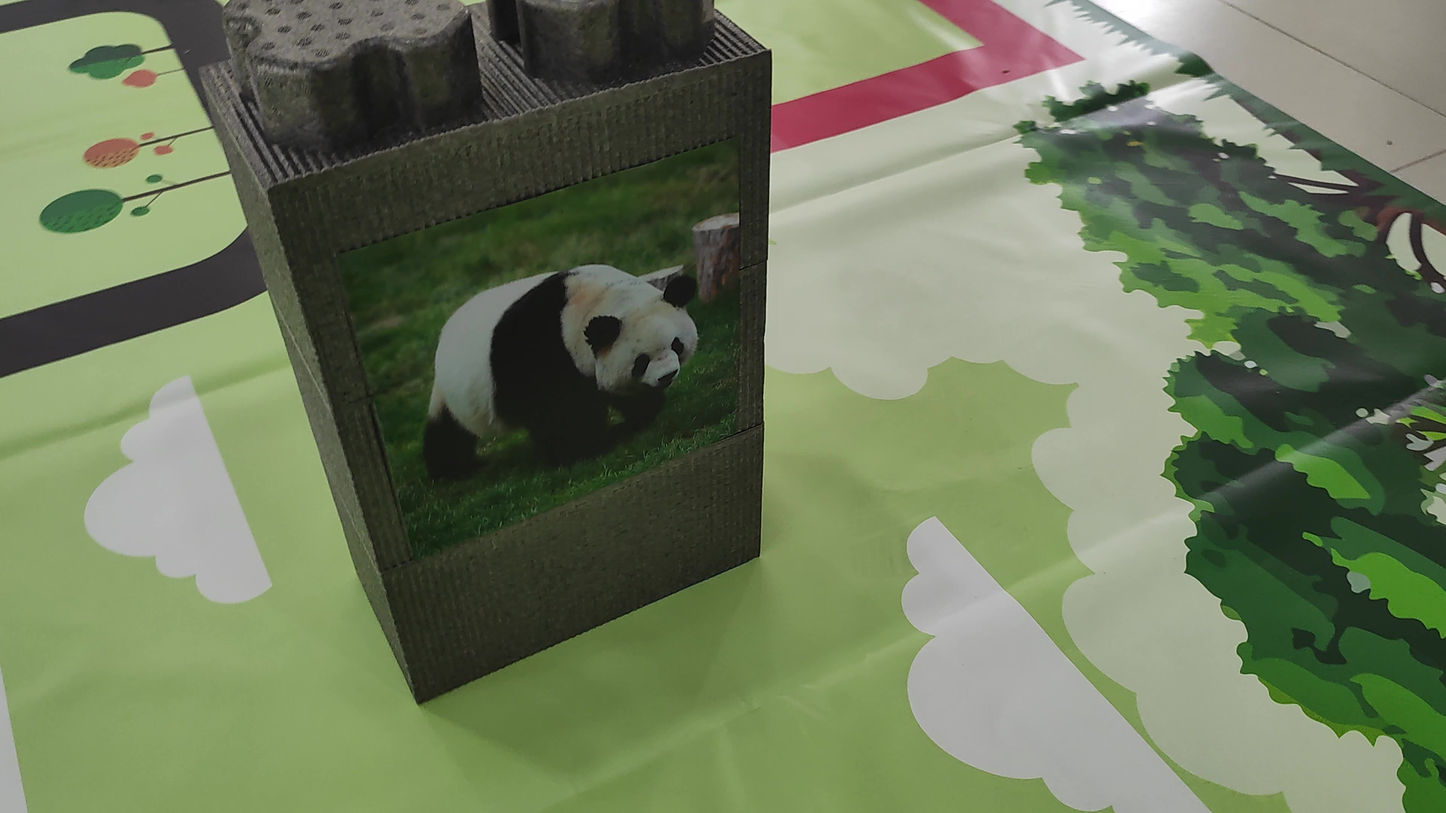panda: (404, 245, 723, 489)
